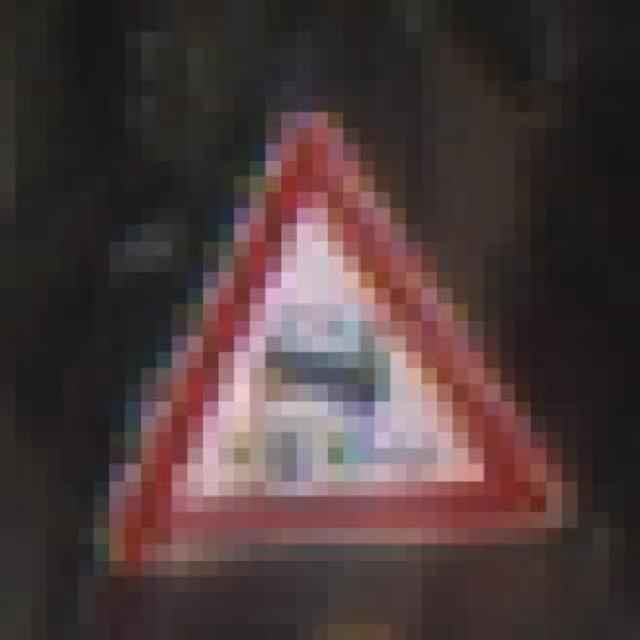Slippery Road Ahead: (91, 102, 592, 567)
